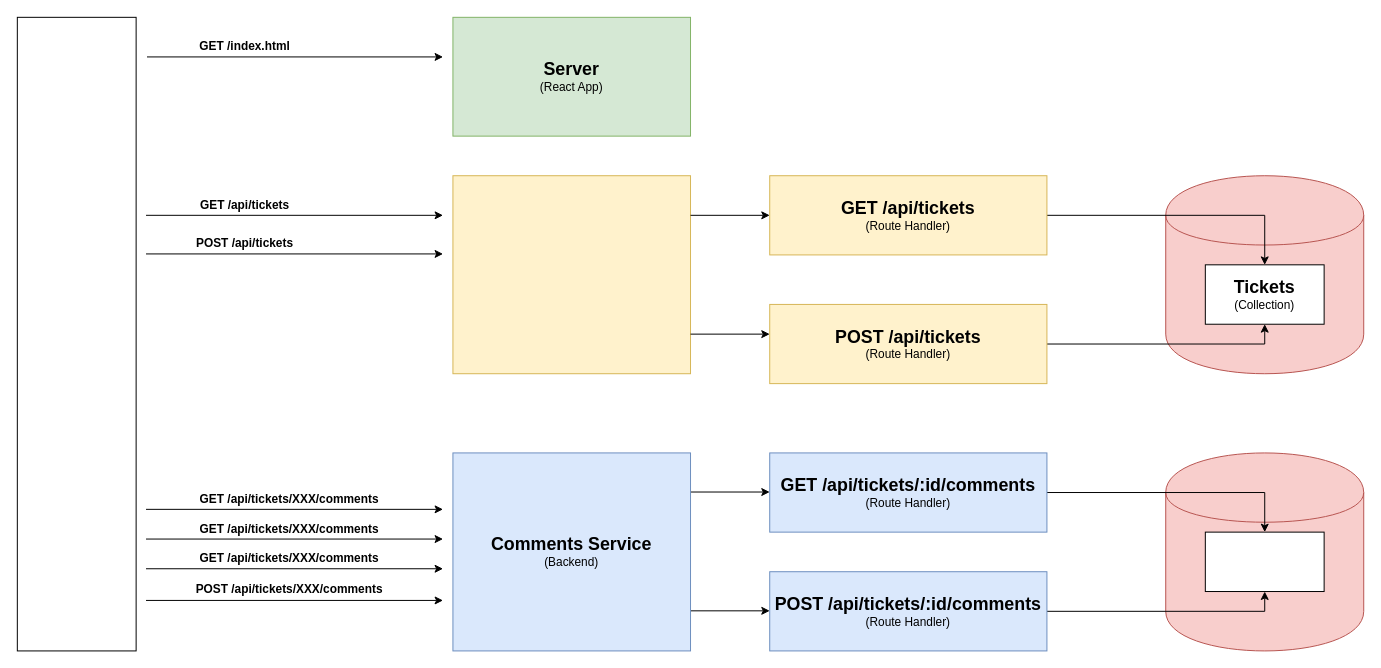
Some shapes in this 1381 by 668 pixel diagram are drawn without their labels. The box of each missing label's shape, as (x1, y1, x2, y2) in pixels:
Client (Browser): (16, 16, 136, 651)
Comments (Collection): (1204, 531, 1324, 592)
Tickets Service (Backend): (452, 175, 691, 374)
